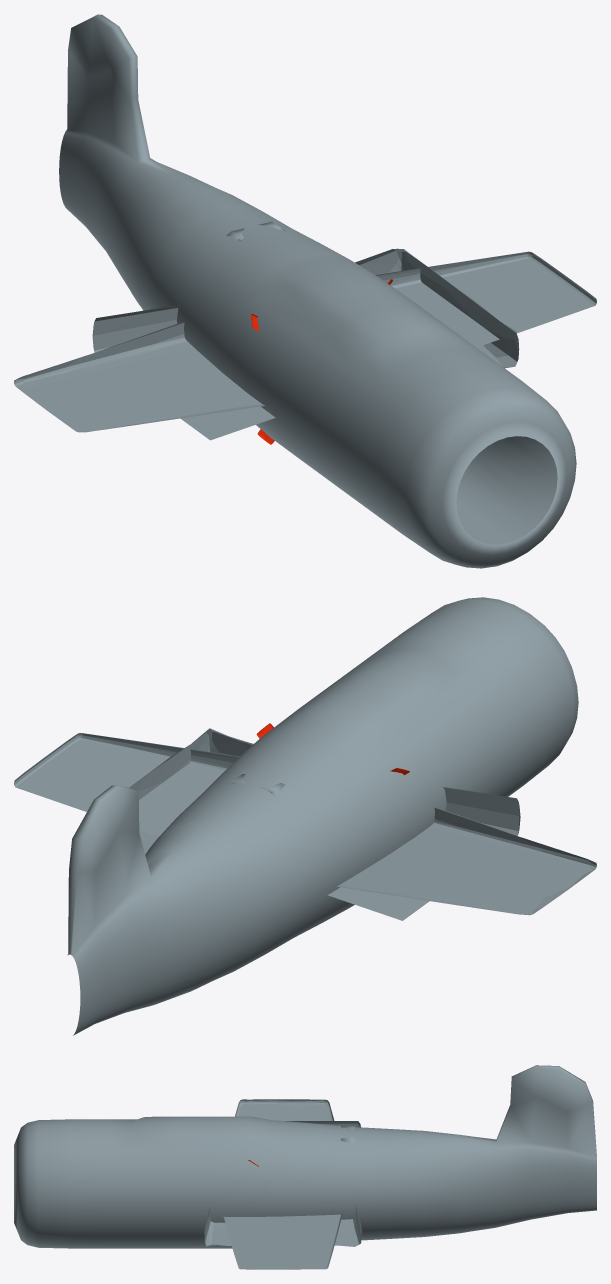
File: fighter.glb
3 views of the same model, one above another, from view 1: azimuth 30°, elevation 25°; view 2: azimuth 150°, elevation 25°; view 3: azimuth 270°, elevation 25° (orthographic). The views are drawn at different scales.
Visible parts, largest first — view 1: Cylinder.001, Cube, Cube.001; view 2: Cylinder.001, Cube, Cube.001; view 3: Cylinder.001, Cube.001, Cube.
Boxes of the visible parts, box(x1,y1,x2,y2) form: Cylinder.001: box(59, 14, 576, 568); Cube: box(14, 248, 519, 432); Cube.001: box(92, 251, 596, 440); Cylinder.001: box(67, 597, 578, 1035); Cube: box(129, 728, 596, 915); Cube.001: box(14, 733, 520, 920); Cylinder.001: box(14, 1065, 596, 1248); Cube.001: box(223, 1121, 360, 1269); Cube: box(204, 1099, 361, 1246).
Size of what is drawn, in the model's own units: 8.57 by 4.18 by 12.48.
